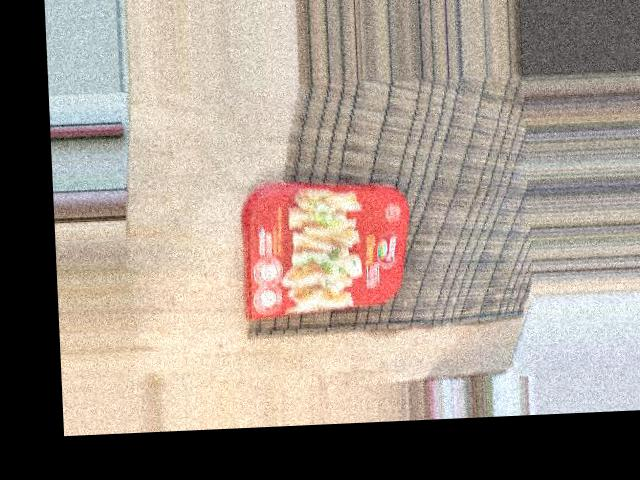cheese: (287, 75, 424, 263)
